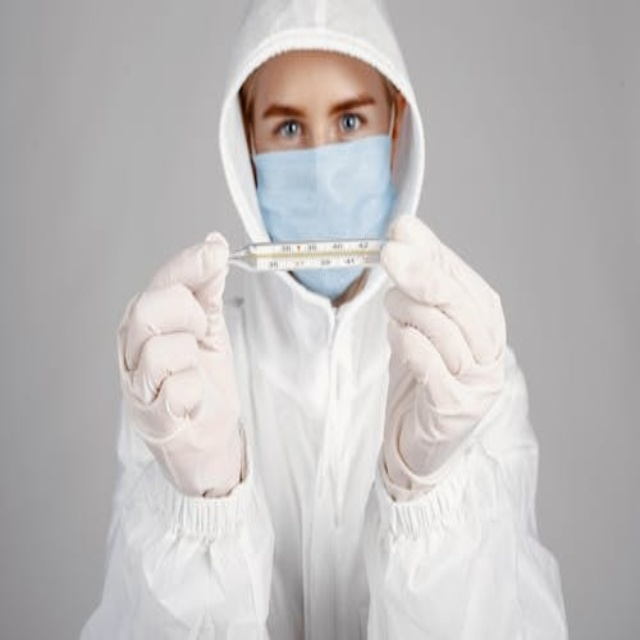Guantes: (376, 215, 508, 497), (117, 230, 248, 500)
Mascara: (251, 114, 397, 297)
Sin_gafas: (253, 83, 392, 150)
